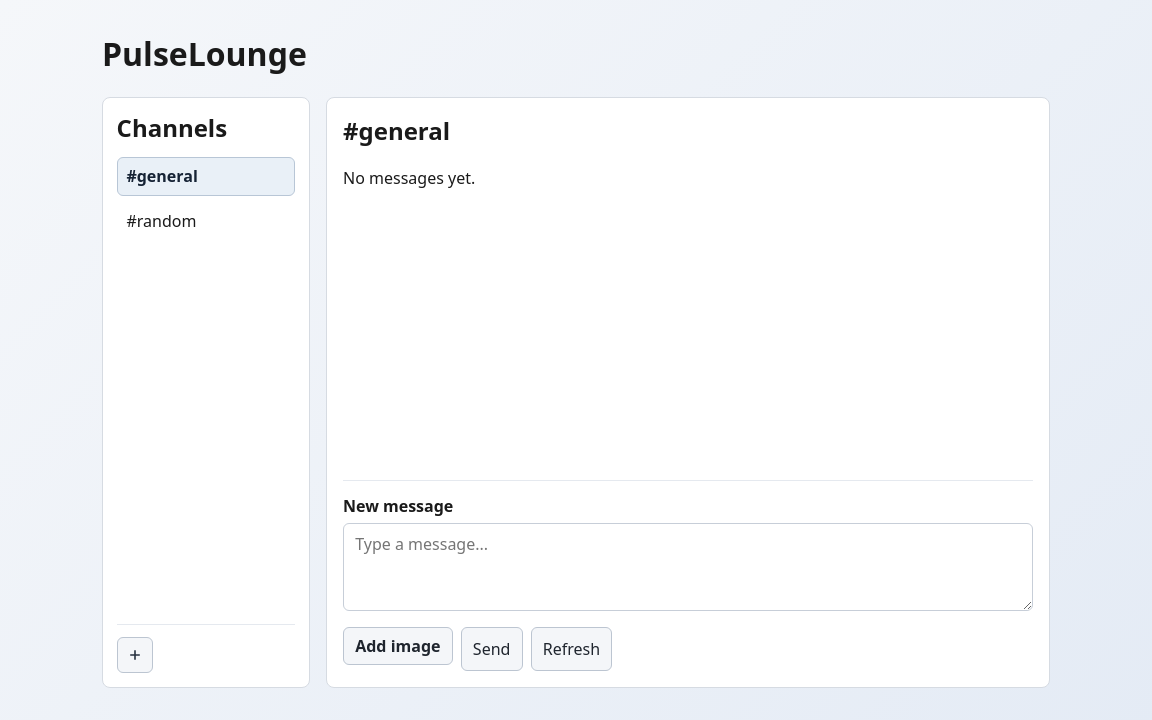
Test: App › submits a message and clears the form
Expected: the text "No messages yet." is shown, [343,167,475,189]
In the text box labelled "New message": [688, 567] box [343,522,1033,611], type "A fresh note"
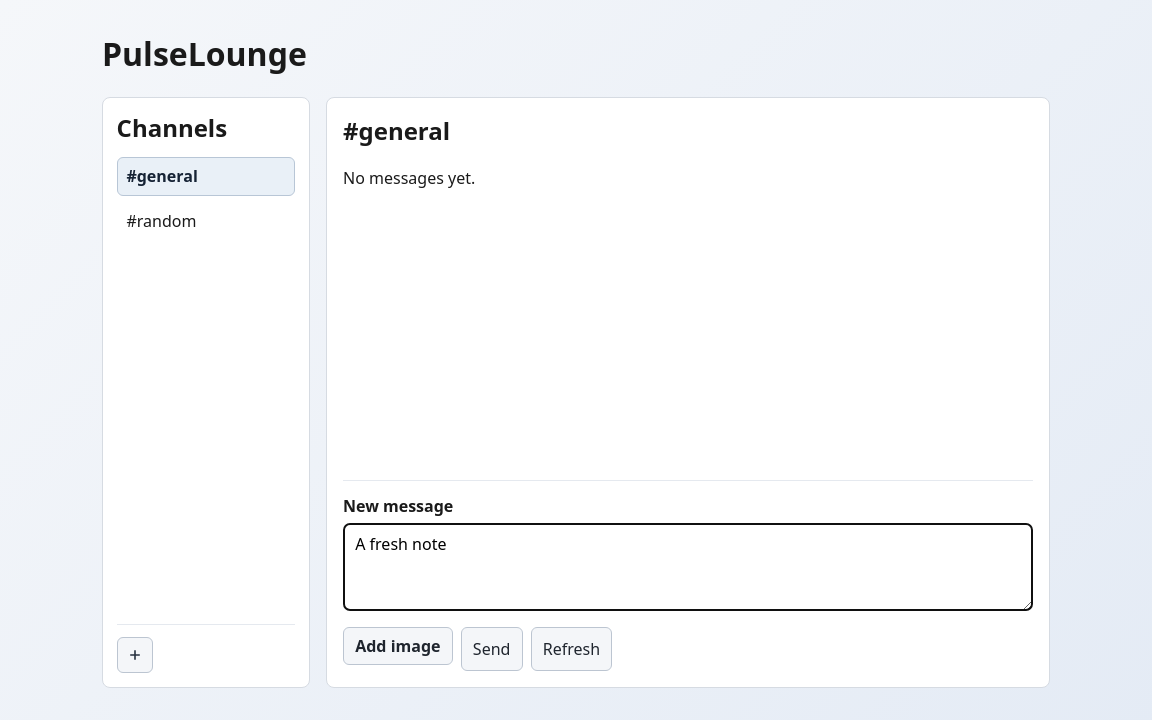
Click the button "Send": [492, 649] box [461,627,523,671]
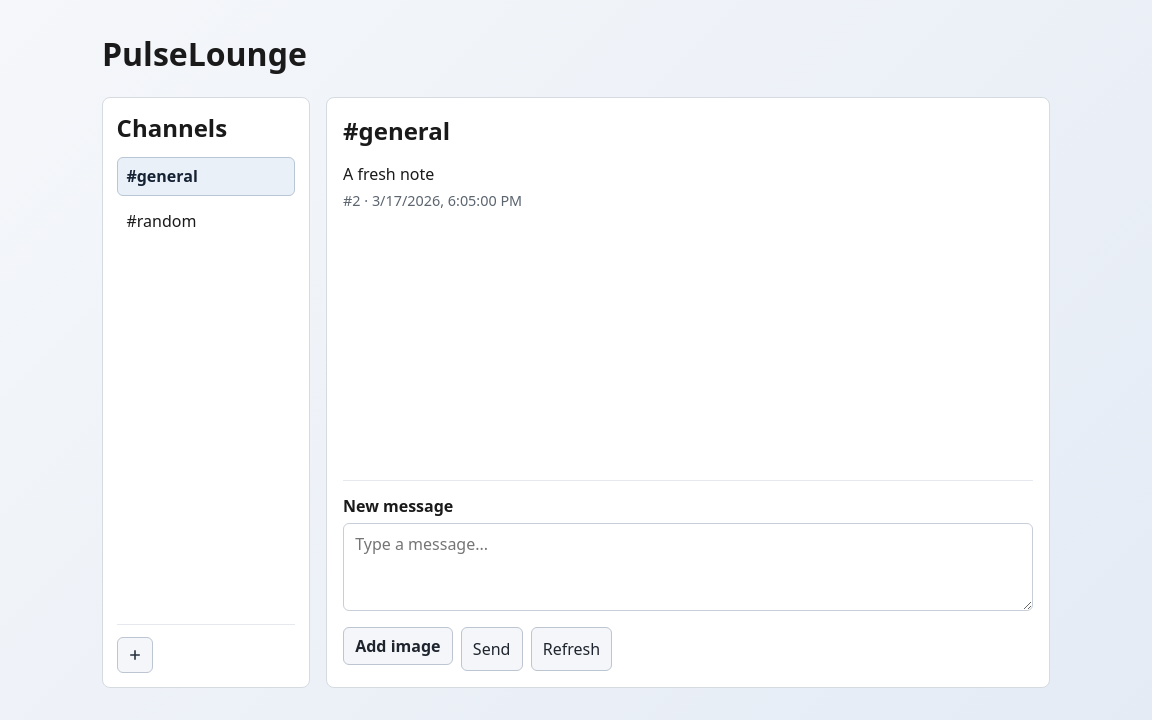
Result: the text "A fresh note" is shown at [343,163,434,185]
Result: the text box labelled "New message" is empty at [343,522,1033,611]
